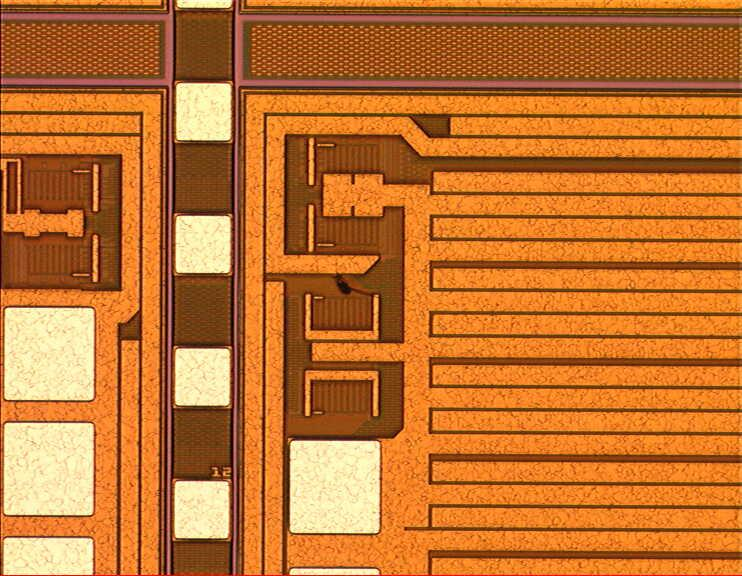PIQ PARTICLE: (325, 266, 382, 310)
